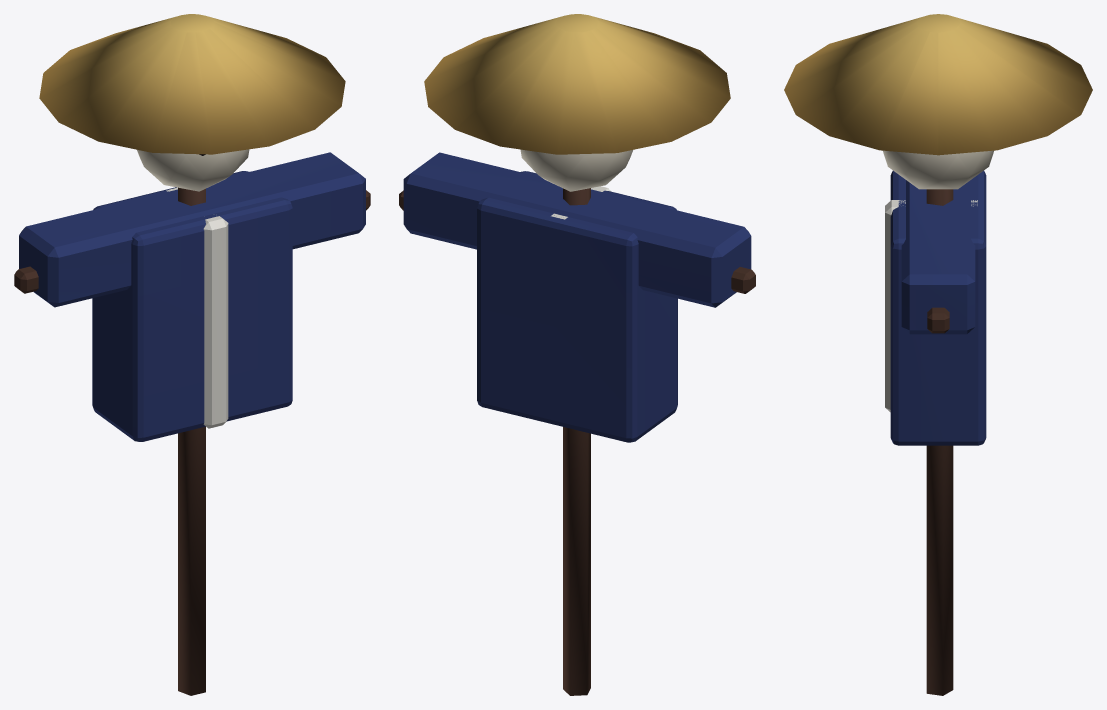
File: scarecrow.glb
The picture shows the model from 3 angles, left to right: view 1: azimuth 30°, elevation 25°; view 2: azimuth 150°, elevation 25°; view 3: azimuth 270°, elevation 25°; orthographic projection.
Parts seen in each view (by area): view 1: Scarecrow; view 2: Scarecrow; view 3: Scarecrow.
Boxes of the visible parts, x1,y1,x2,y2 form: Scarecrow: (14,14,370,695); Scarecrow: (399,14,755,695); Scarecrow: (784,14,1092,695).
Bounding box in the file's own units: 1.1 × 2 × 0.84.
